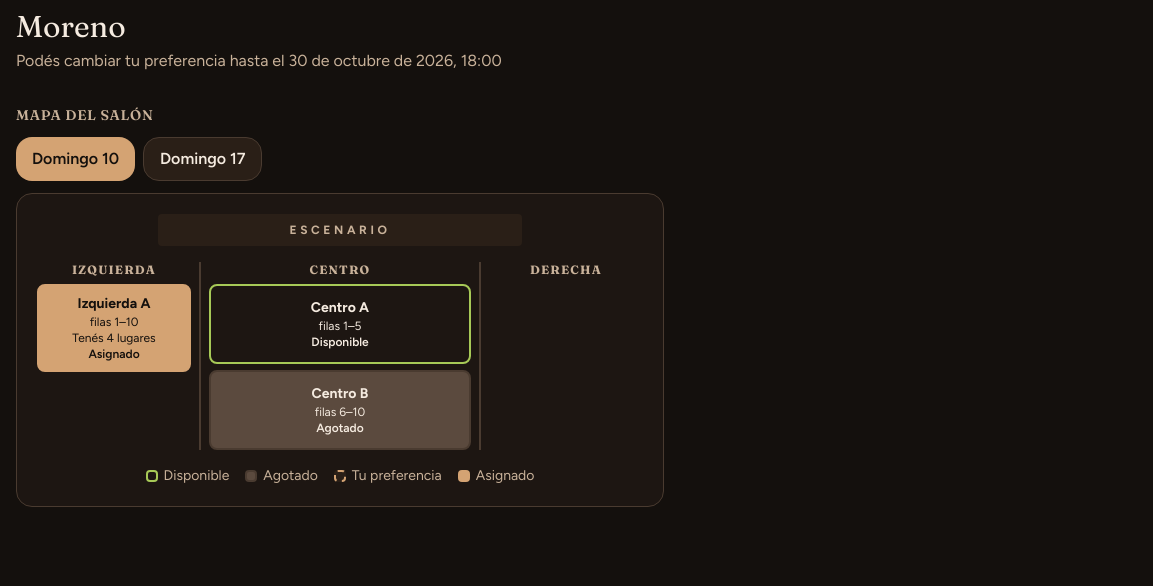
Test case: SedePanel › FECHA_LIMITE_VENCIDA revierte, refresca y muestra Cerrado
The width and height of the screenshot is (1153, 586).
Click the button "Centro A filas 1–5 Disponible": [340, 324] box [209,284,471,364]
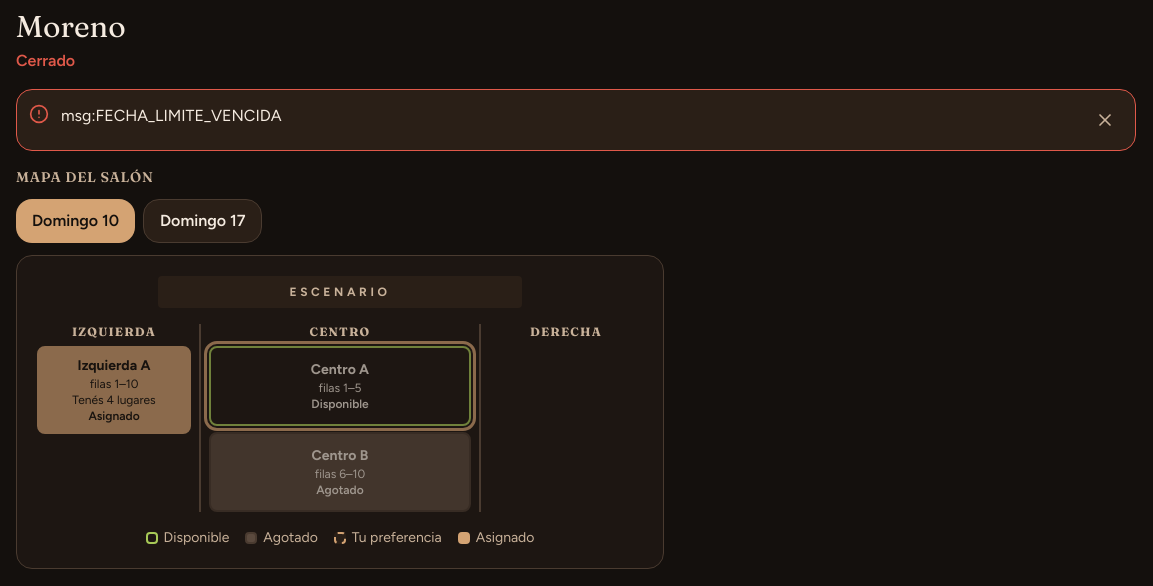
Result: the text "Cerrado" is shown at [16,51,75,70]
